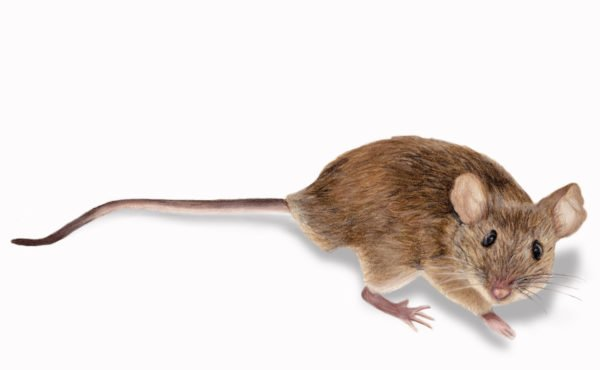mouse: (259, 104, 590, 347)
